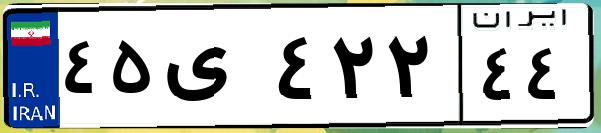2: (385, 28, 445, 110), (330, 28, 385, 110)
4: (270, 28, 330, 110), (57, 26, 110, 100), (475, 38, 525, 113), (525, 38, 570, 115)
5: (110, 28, 158, 98)
ی: (158, 20, 270, 120)
